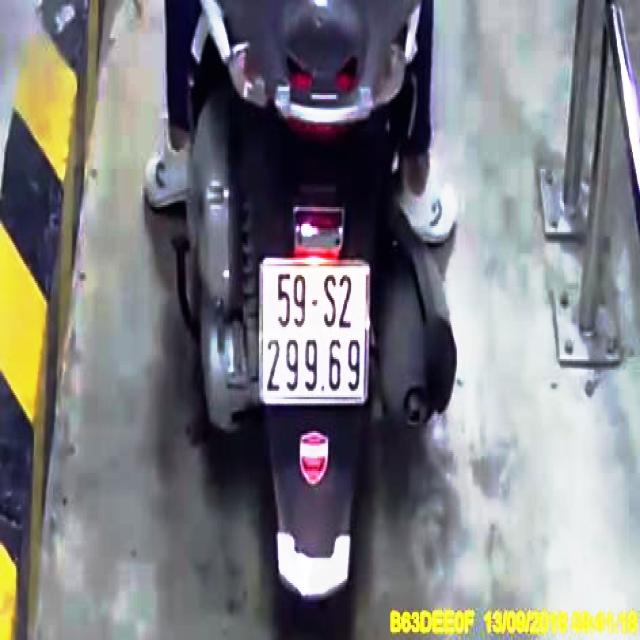license_plate: (259, 259, 369, 405)
